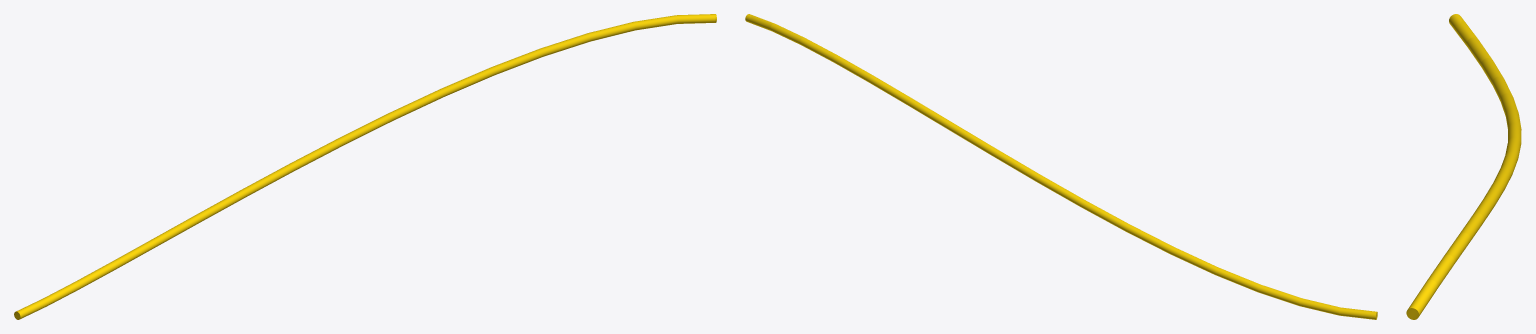
The model's file is Event_421556567_track_29.fbx.
3 renders of one model, left to right at view 1: azimuth 30°, elevation 25°; view 2: azimuth 150°, elevation 25°; view 3: azimuth 270°, elevation 25°, orthographic. The views are drawn at different scales.
Parts seen in each view (by area): view 1: Model; view 2: Model; view 3: Model.
Boxes of the visible parts, <box> form: Model: <box>14,14,716,319</box>; Model: <box>745,14,1377,319</box>; Model: <box>1406,14,1521,319</box>.
Size of the model in its own units: 3.58 by 0.7516 by 0.3417.
